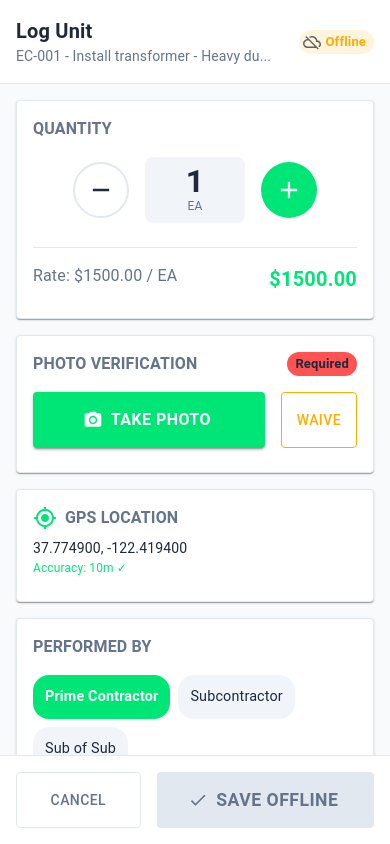
UnitEntryForm Component › Quantity Section › should decrement quantity
// First increment
Click the button named "Increase quantity" at coordinates (289, 190), box x1=261 y1=162 x2=317 y2=218
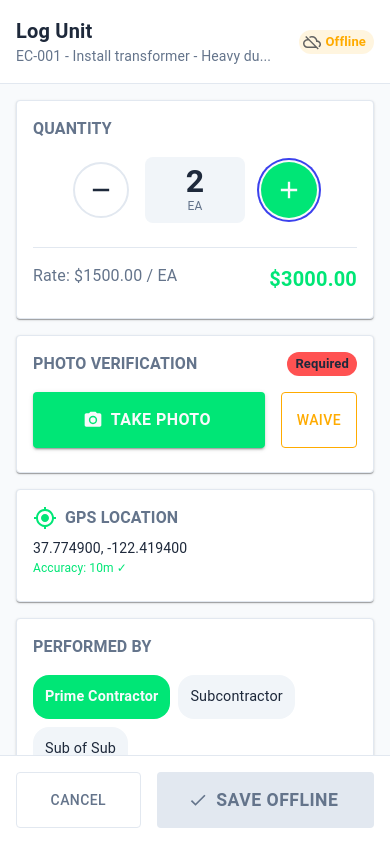
Click the button named "Increase quantity" at coordinates (289, 190), box x1=261 y1=162 x2=317 y2=218
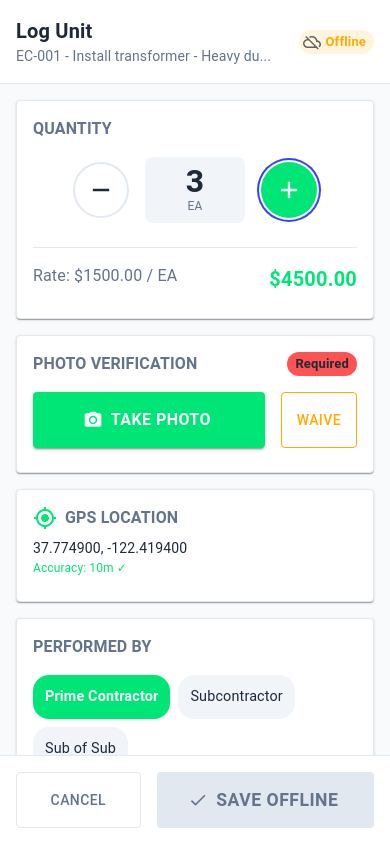
// Then decrement
Click the button named "Decrease quantity" at coordinates (101, 190), box x1=73 y1=162 x2=129 y2=218
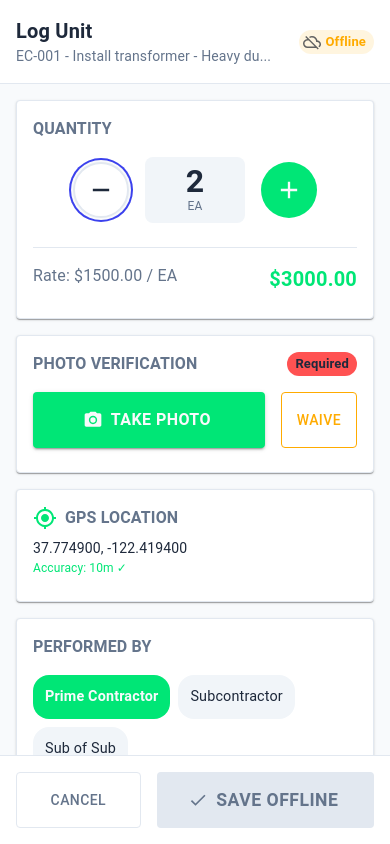
Expected: the text "2" is shown, x1=186 y1=162 x2=204 y2=200
